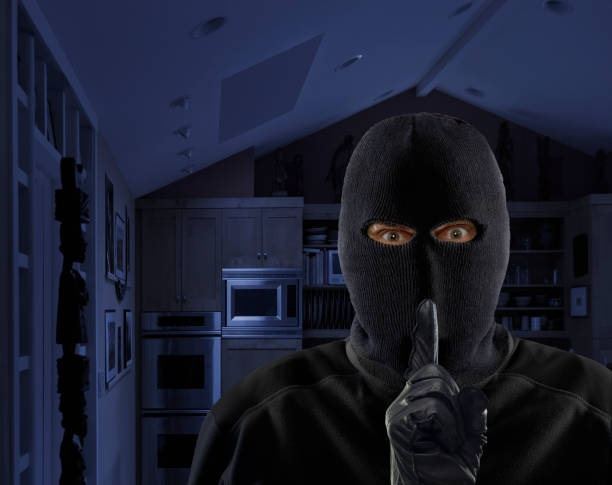robbery mask: (334, 112, 513, 381)
